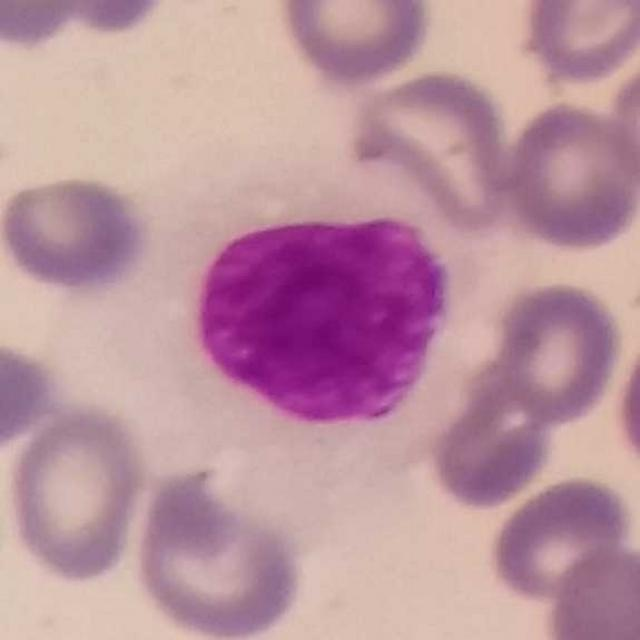Monocyte: (120, 139, 482, 497)
RBC: (127, 465, 308, 640), (344, 66, 520, 235), (1, 398, 149, 588), (419, 354, 568, 514), (497, 95, 639, 254), (488, 276, 626, 429), (484, 472, 639, 608), (0, 168, 156, 299), (272, 0, 438, 88), (512, 0, 640, 89), (541, 541, 640, 640), (0, 335, 66, 462), (9, 0, 180, 42), (601, 41, 640, 197), (0, 0, 98, 53), (610, 320, 640, 488)
